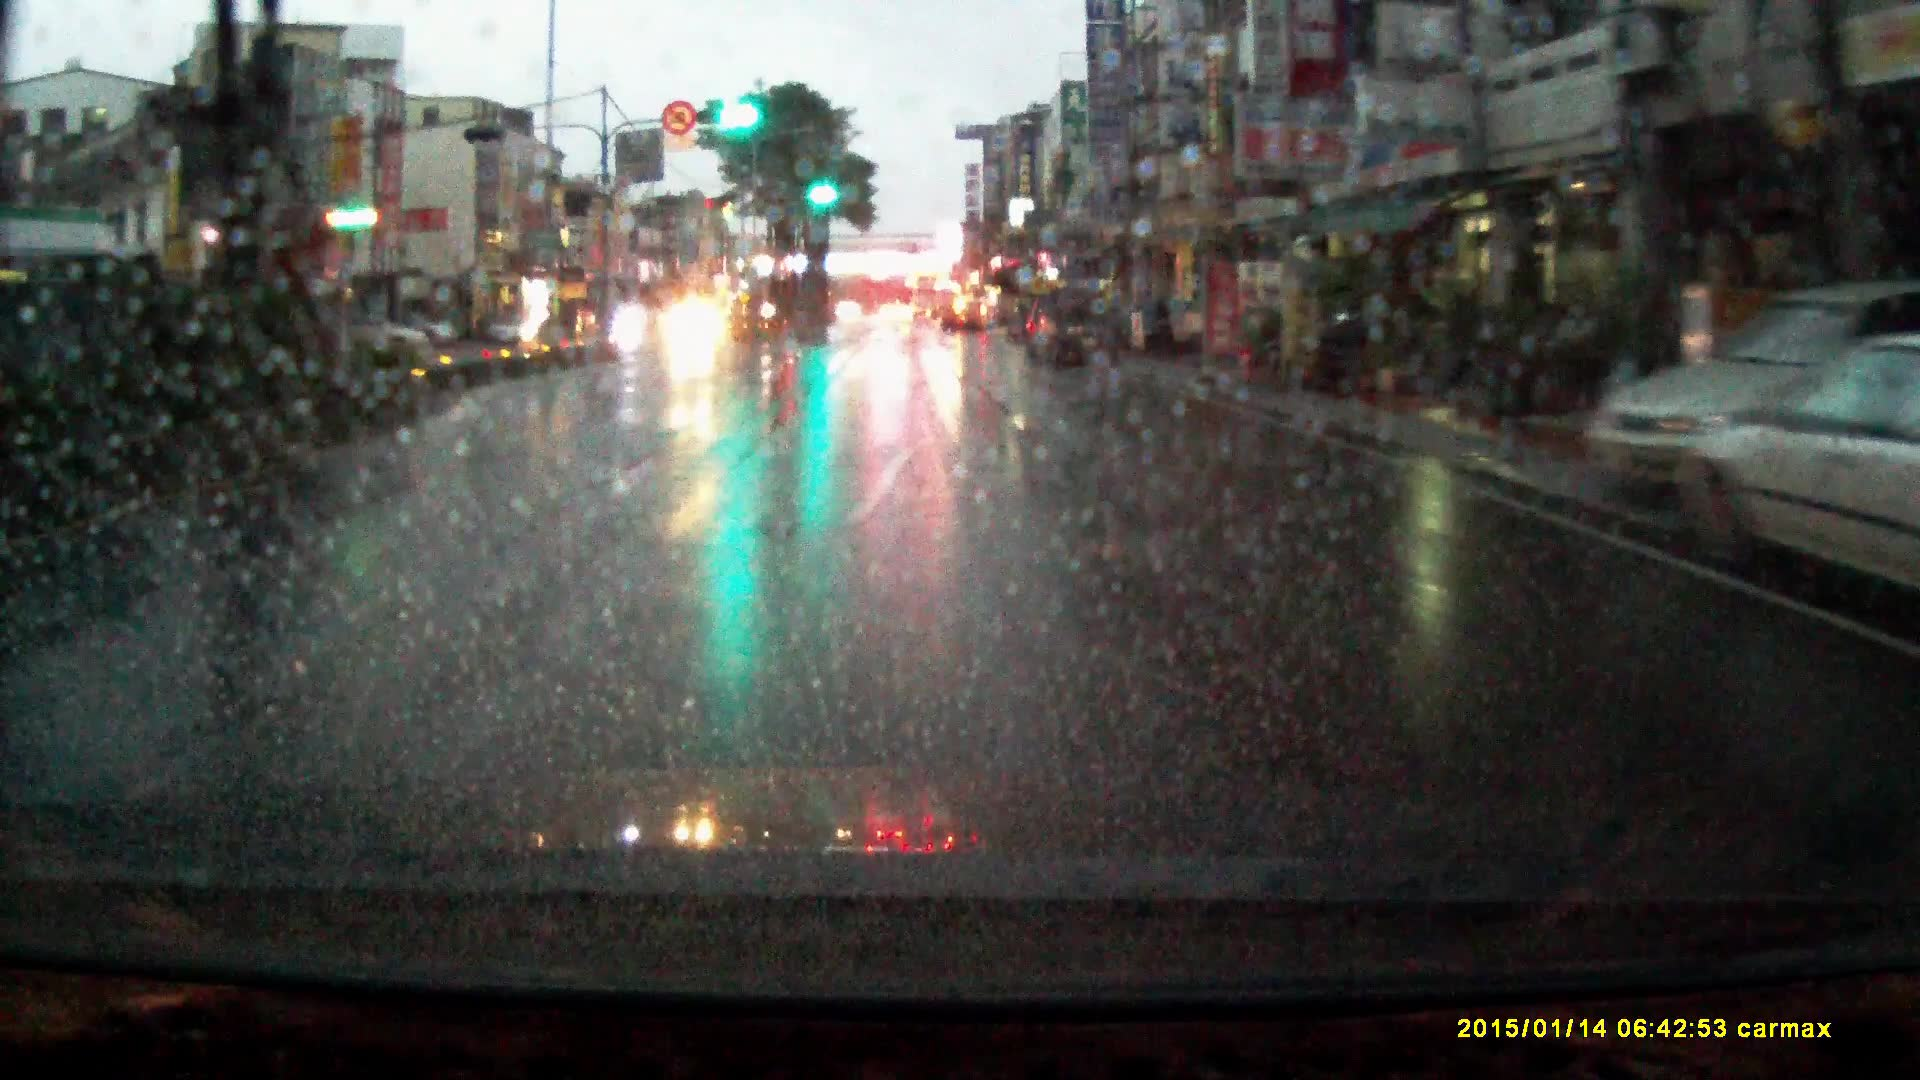vehicle: (1586, 280, 1920, 533), (1675, 334, 1920, 628), (1021, 284, 1106, 371), (665, 301, 735, 351), (363, 316, 431, 357), (591, 302, 654, 342), (491, 309, 549, 345), (1167, 301, 1208, 348), (942, 295, 990, 335), (910, 276, 943, 320), (880, 303, 916, 326)
